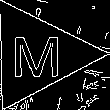M_N: (11, 29, 64, 80)
